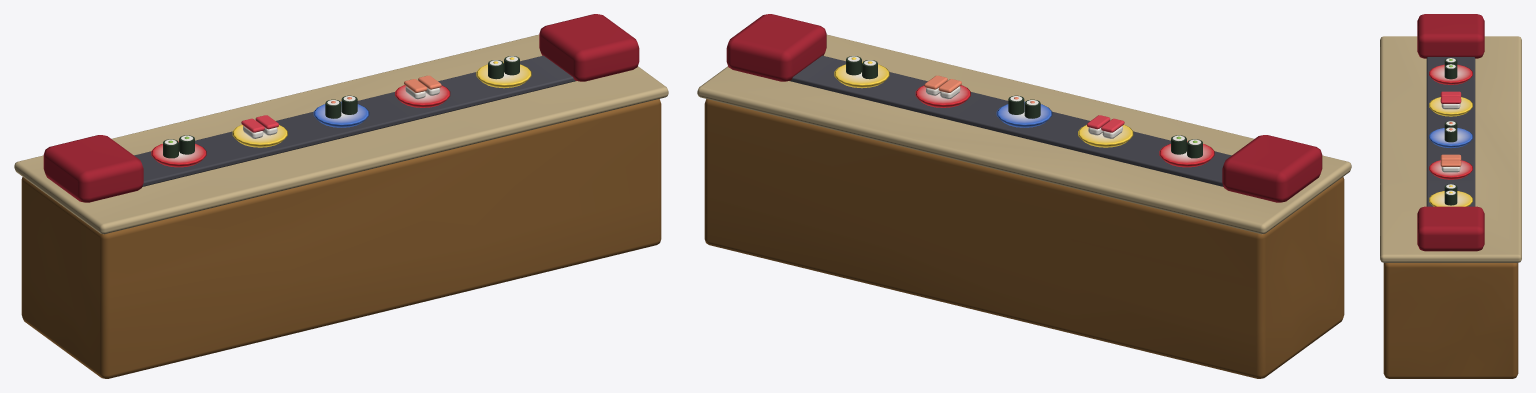
File: furn_sushi_conveyor.glb
3 views of the same model, side by side, from view 1: azimuth 30°, elevation 25°; view 2: azimuth 150°, elevation 25°; view 3: azimuth 270°, elevation 25° (orthographic). The views are drawn at different scales.
Parts seen in each view (by area): view 1: furn_sushi_conveyor_main, furn_sushi_conveyor_move; view 2: furn_sushi_conveyor_main, furn_sushi_conveyor_move; view 3: furn_sushi_conveyor_main, furn_sushi_conveyor_move.
Boxes of the visible parts, bbox=[...] form: furn_sushi_conveyor_main: bbox=[14, 14, 668, 378]; furn_sushi_conveyor_move: bbox=[151, 56, 531, 167]; furn_sushi_conveyor_main: bbox=[697, 14, 1351, 378]; furn_sushi_conveyor_move: bbox=[834, 56, 1214, 167]; furn_sushi_conveyor_main: bbox=[1380, 14, 1521, 378]; furn_sushi_conveyor_move: bbox=[1429, 58, 1472, 206].
Bounding box in the file's own units: 2.8 × 0.9 × 0.76.
